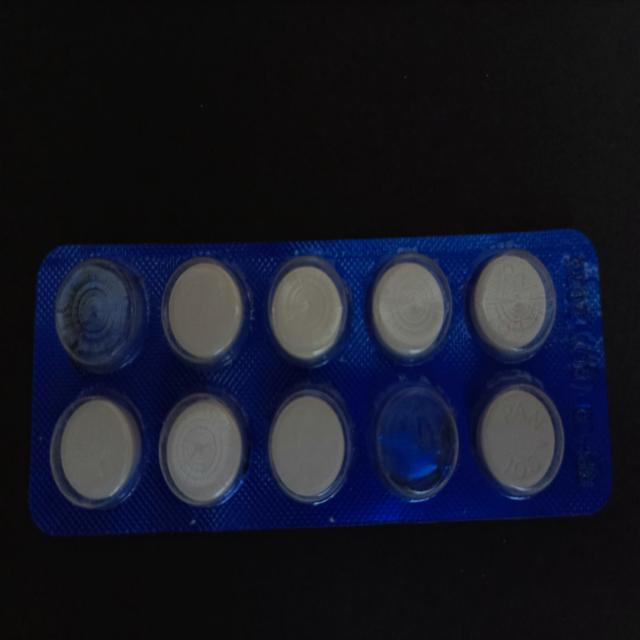defect: (51, 254, 154, 384), (367, 375, 464, 506)
